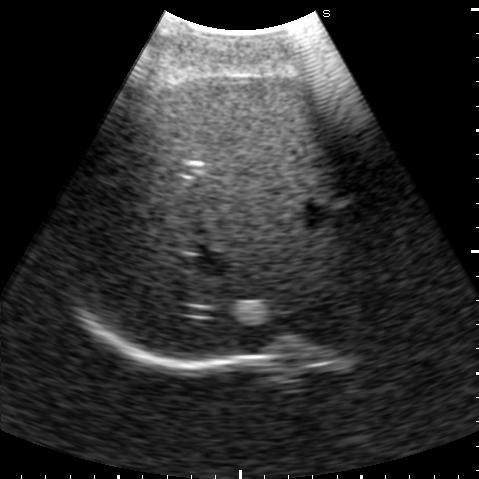S5: (134, 74, 334, 186)
S7: (76, 153, 182, 305)
S8: (125, 175, 375, 358)
Tumor: (228, 299, 271, 327)
